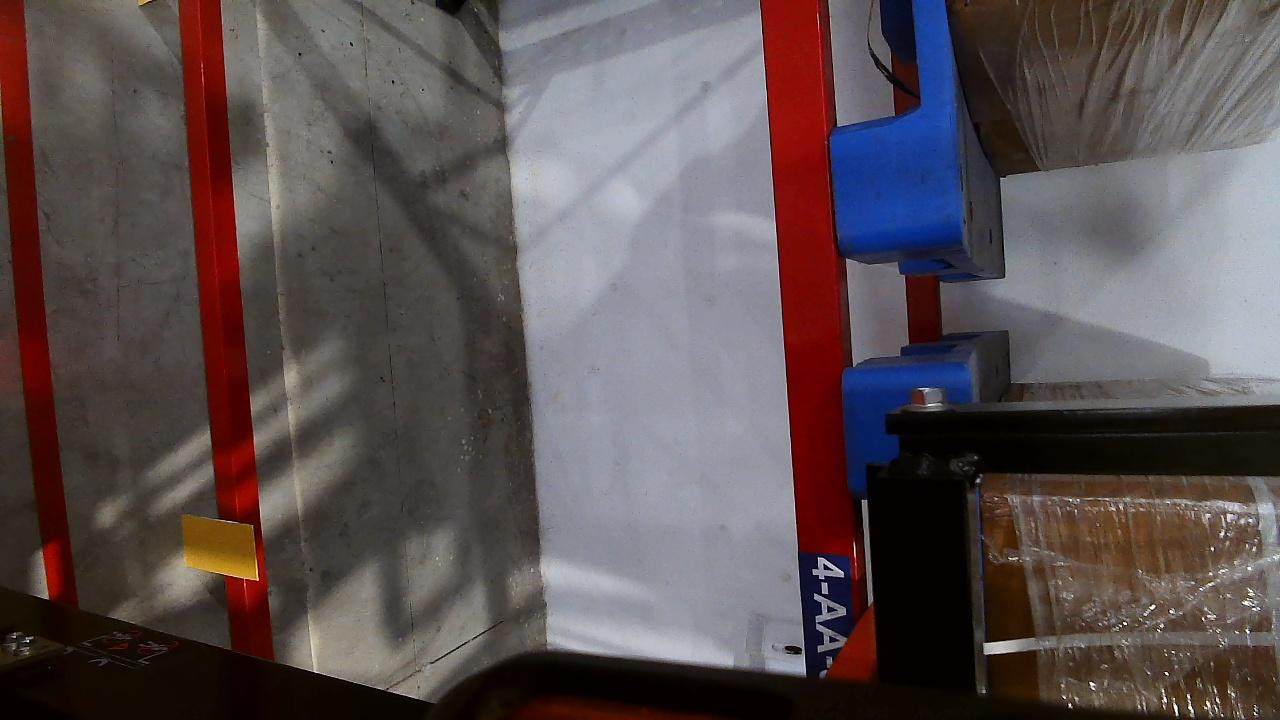h_rack: (175, 2, 272, 658), (759, 0, 853, 593)
orange_strip: (179, 515, 258, 582)
red_line: (0, 3, 70, 596)
small_pallet: (820, 0, 965, 240)
